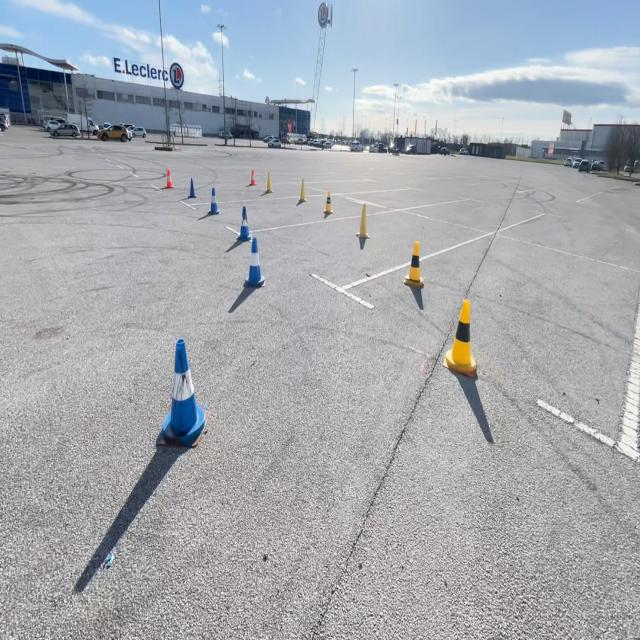blue_cone: (156, 336, 206, 448), (243, 234, 266, 287)
orange_cone: (164, 166, 173, 188), (248, 168, 257, 185)
yellow_cone: (444, 298, 476, 377), (402, 239, 425, 287), (234, 204, 252, 243), (355, 202, 370, 243), (204, 186, 220, 216), (322, 189, 334, 215), (185, 175, 198, 198), (296, 176, 306, 203), (264, 169, 273, 194)
